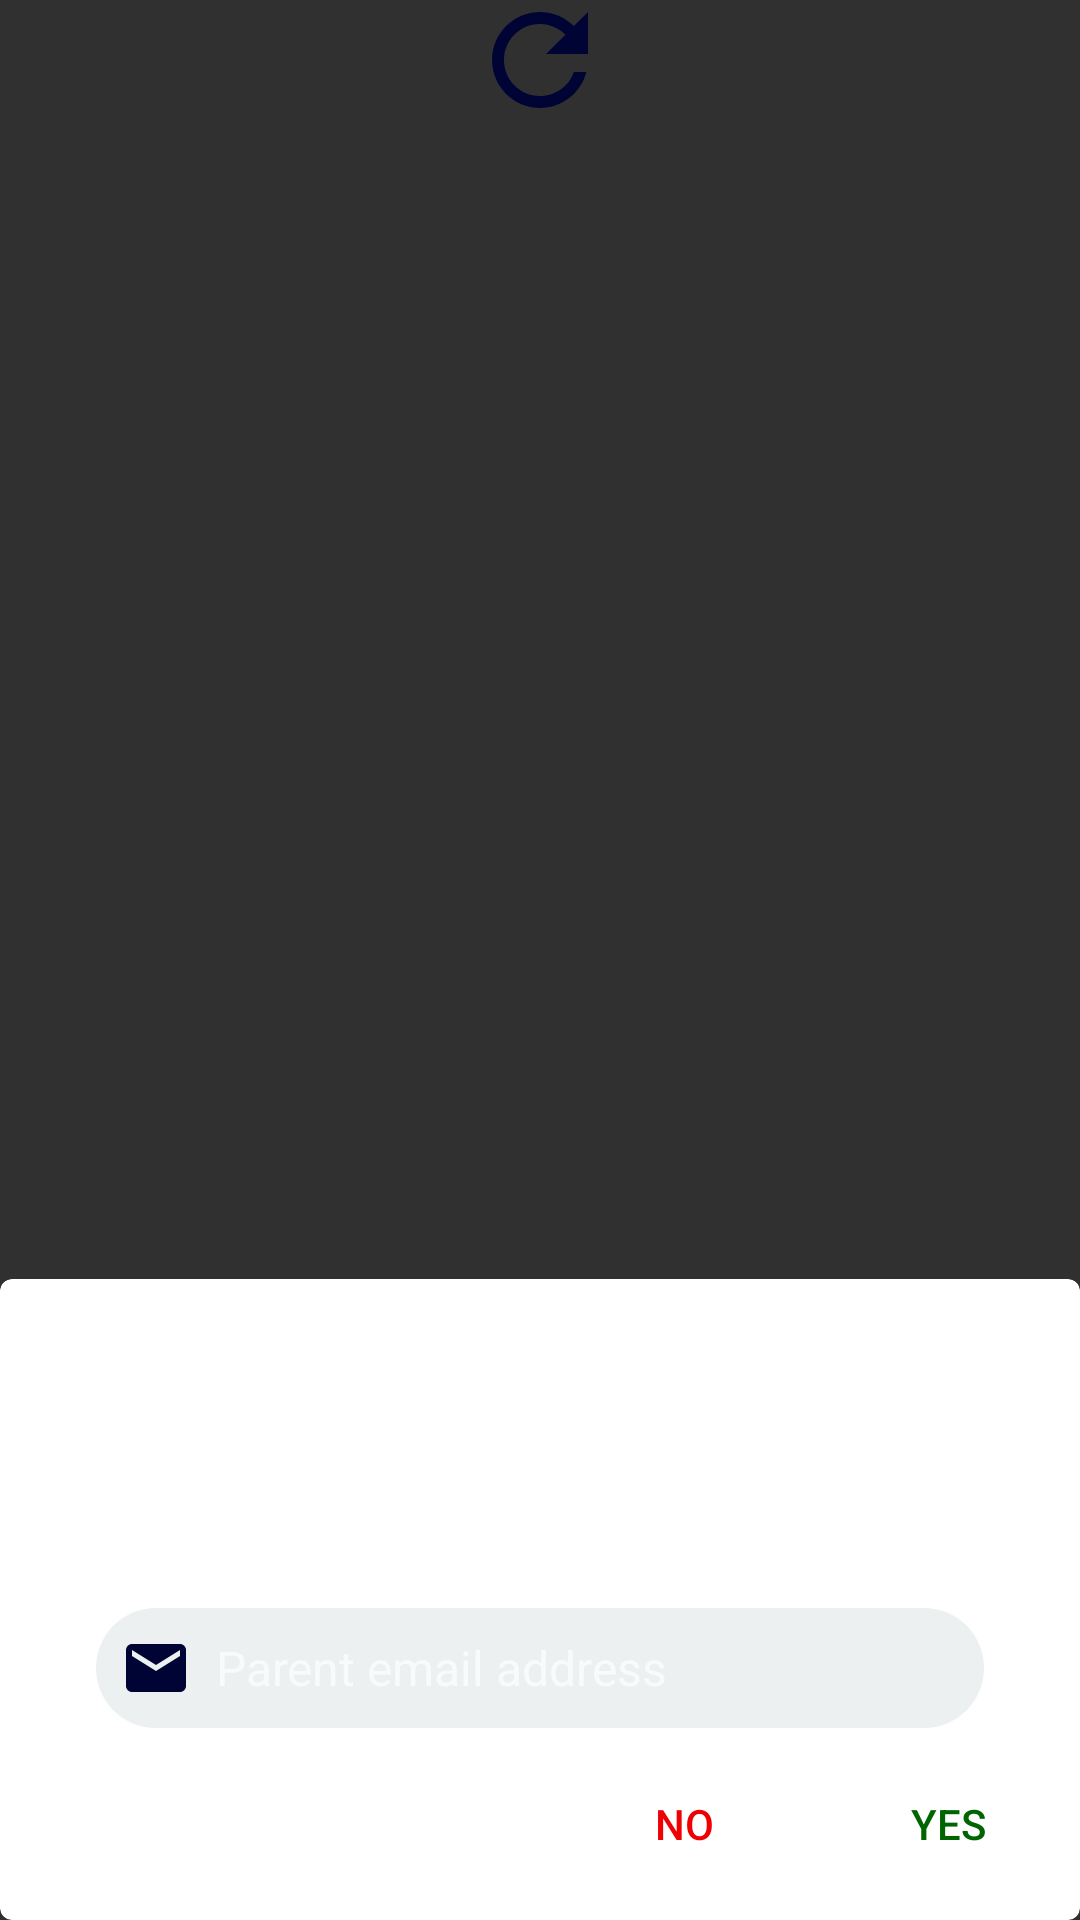

Icon click points for this 1080px x 1920px phone screenshot, format point (x, y):
reset: point (540, 60)
